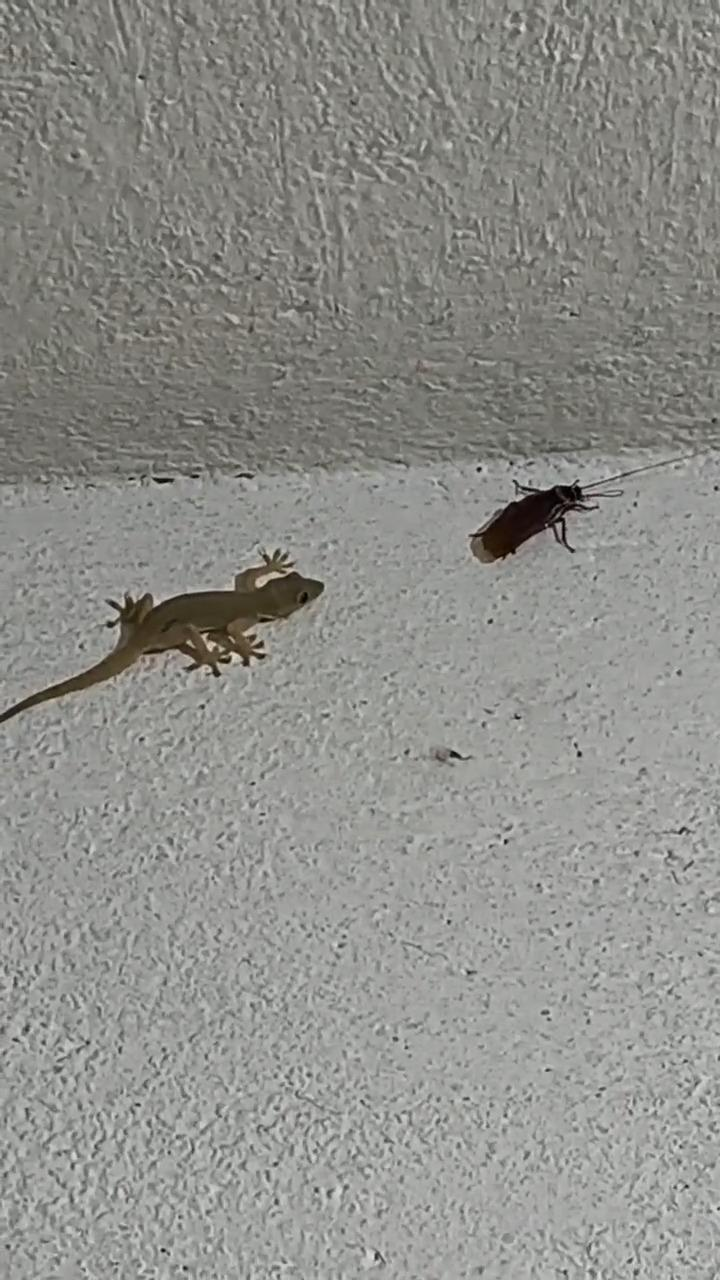cockroach: (448, 465, 649, 568)
lizard: (0, 538, 331, 740)
